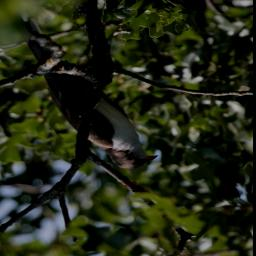Cuckoo: (11, 15, 159, 170)
